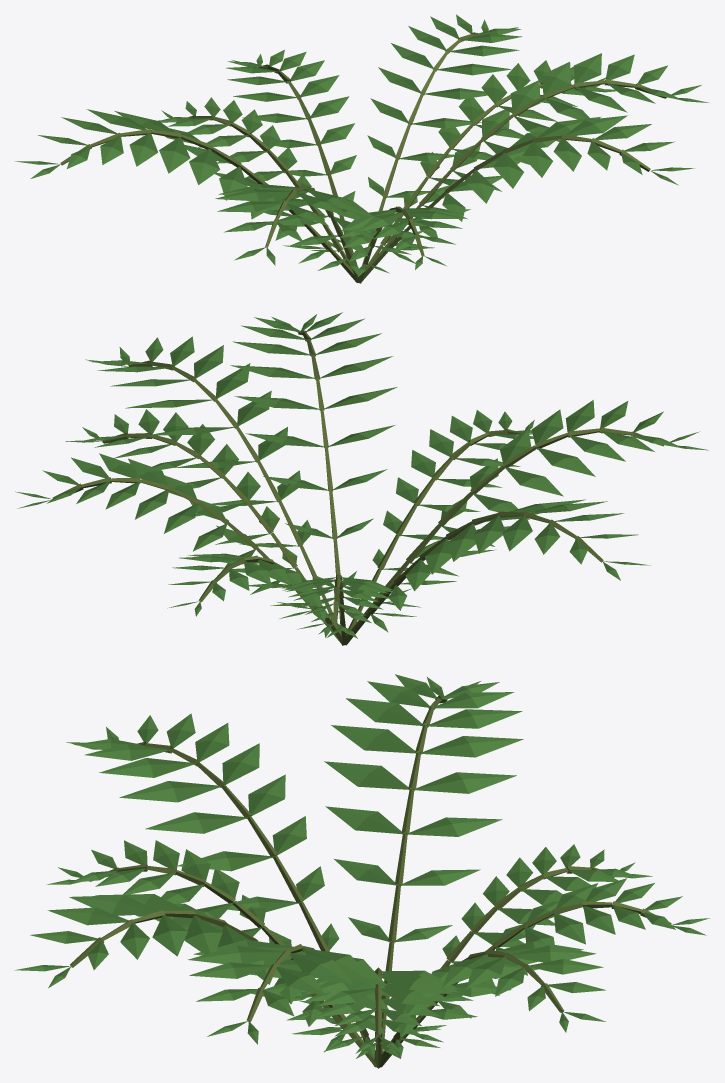
Rendered from fern.glb.
3 renders of one model, top to bottom at view 1: azimuth 30°, elevation 25°; view 2: azimuth 150°, elevation 25°; view 3: azimuth 270°, elevation 25°, orthographic. The views are drawn at different scales.
Bounding box in the file's own units: 1.77 × 0.5248 × 1.43.
